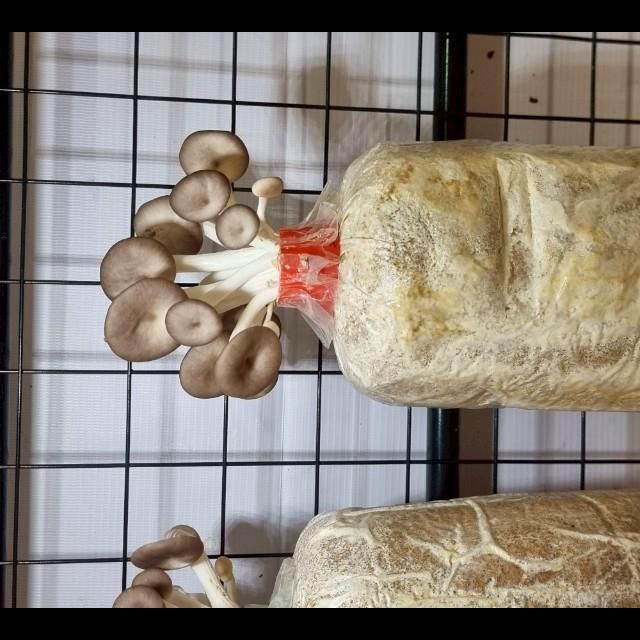normal: (102, 275, 193, 367), (215, 317, 288, 405), (93, 230, 177, 302), (178, 130, 267, 195)
